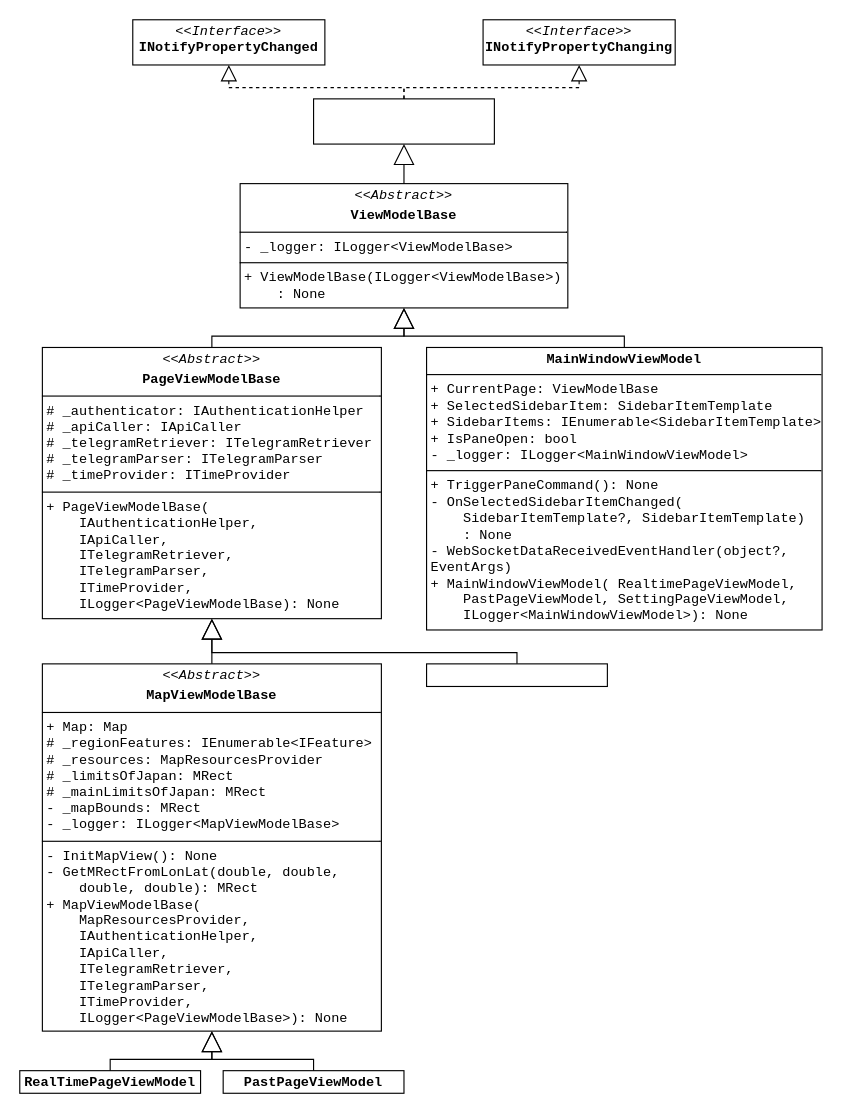
Image size: 842x1113. Some labels were removed from this diagram. Each missing label, with the box of its shape:
<<Abstract>> ObservableObject: (312, 98, 494, 144)
SettingPageViewModel: (425, 663, 607, 686)
